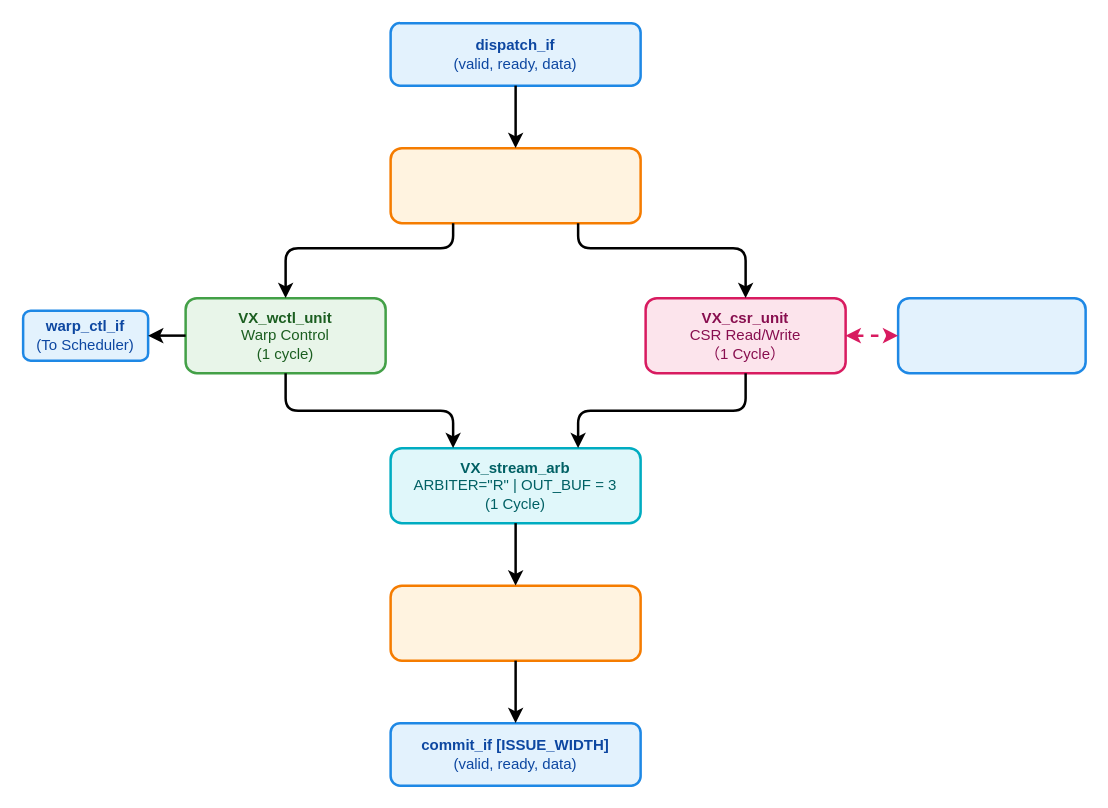
Some shapes in this 1108 by 808 pixel diagram are drawn without their labels. Each missing label, with the centre of its shape:
"System CSR Interfaces (sched_csr, commit_csr)" belongs at (x=991, y=335).
"VX_dispatch_unit OUT_BUF = 1 (1 Cycle)" belongs at (x=515, y=185).
"VX_gather_unit OUT_BUF = 3 (1 Cycle)" belongs at (x=515, y=622).
